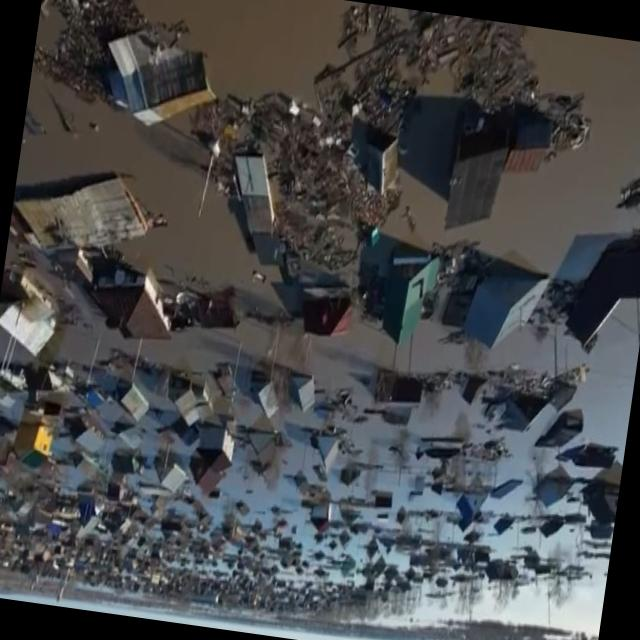damage: (29, 178, 240, 348), (170, 325, 283, 431), (109, 36, 215, 125), (107, 427, 234, 495), (454, 267, 550, 348), (381, 254, 466, 344), (569, 246, 640, 345), (235, 157, 283, 268), (445, 148, 507, 228), (0, 276, 58, 352), (348, 124, 398, 196), (301, 287, 364, 342), (232, 155, 275, 224), (504, 117, 553, 172), (500, 396, 543, 445), (13, 423, 54, 470), (383, 379, 425, 424), (461, 471, 489, 531), (527, 470, 567, 508), (558, 439, 613, 465), (309, 492, 337, 534), (71, 493, 101, 532), (540, 421, 583, 448), (316, 439, 345, 479), (24, 483, 53, 518), (29, 365, 56, 401), (289, 377, 315, 414), (73, 423, 105, 450), (482, 562, 518, 584), (589, 499, 617, 524), (52, 527, 77, 553), (85, 379, 101, 409), (319, 592, 326, 640)
